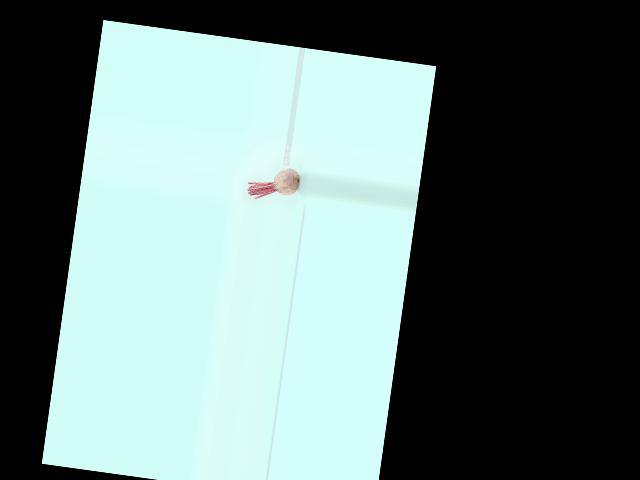beet: (246, 162, 301, 204)
